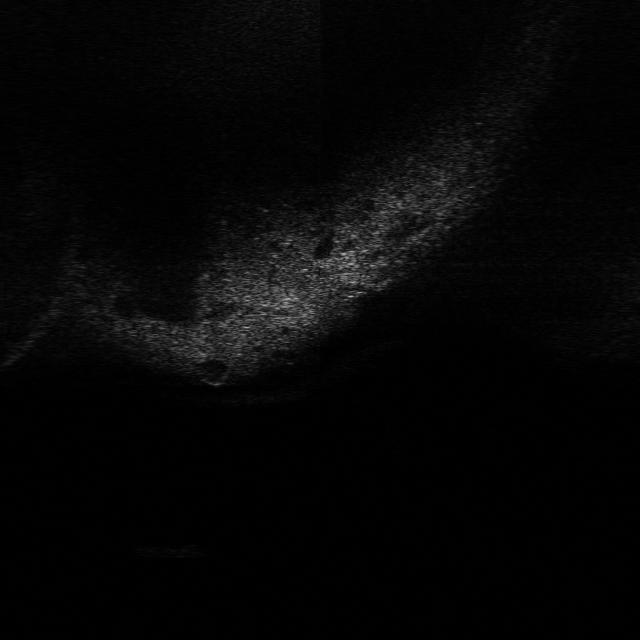cube: (132, 538, 202, 564)
